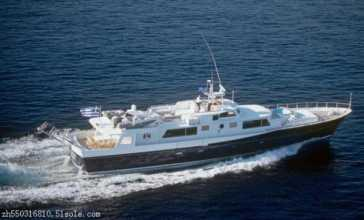yacht: (66, 69, 356, 170)
